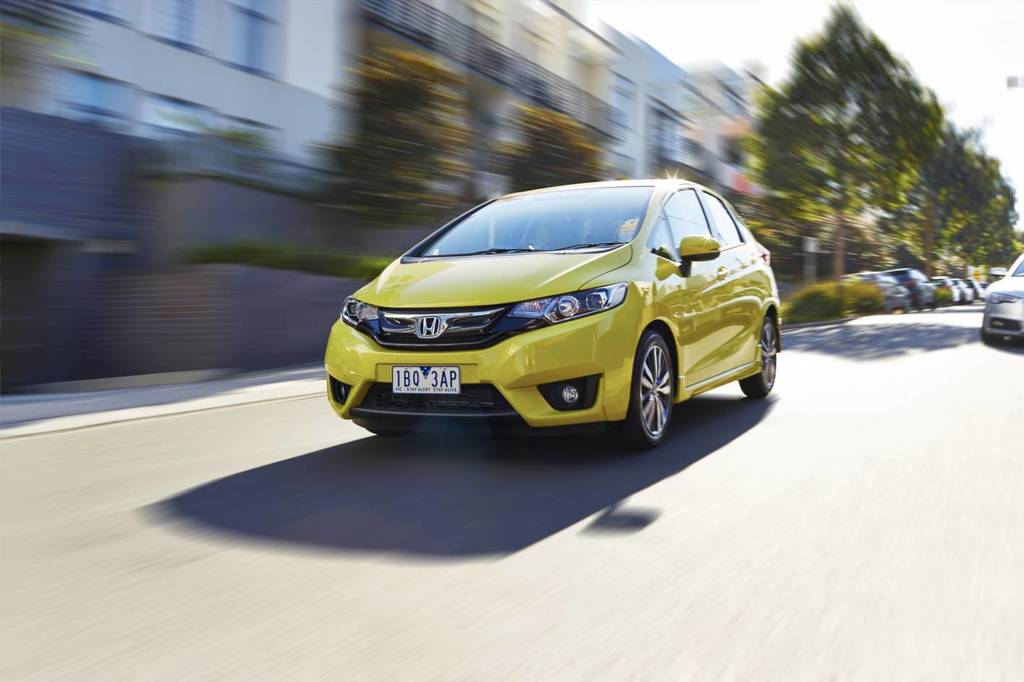mobil: (310, 175, 805, 470)
